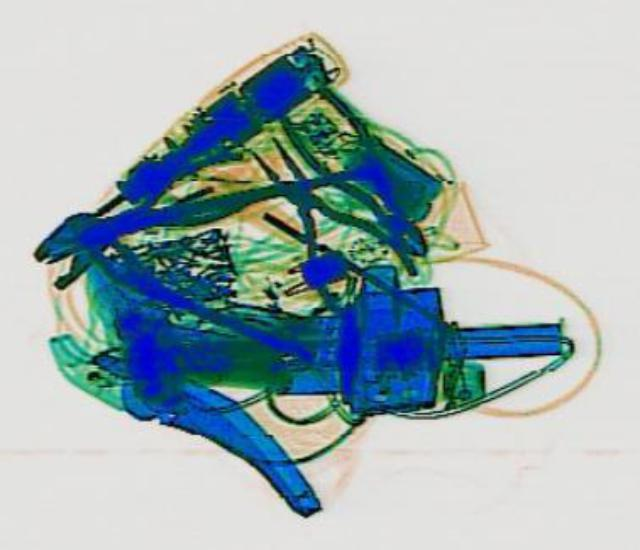Pliers: (212, 119, 426, 318), (262, 79, 456, 268), (61, 143, 269, 264)
